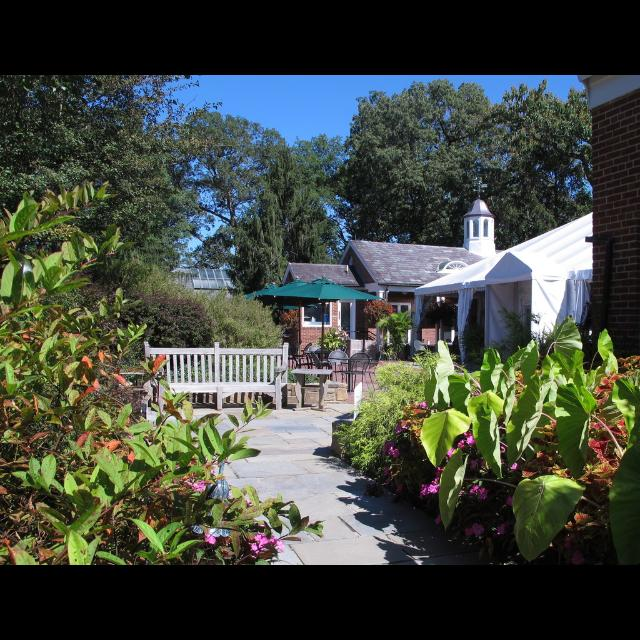Flower: (380, 400, 518, 534), (248, 532, 284, 550), (187, 480, 209, 492), (471, 522, 485, 536), (204, 532, 216, 544), (434, 514, 444, 526), (464, 526, 474, 536), (395, 482, 403, 493)
